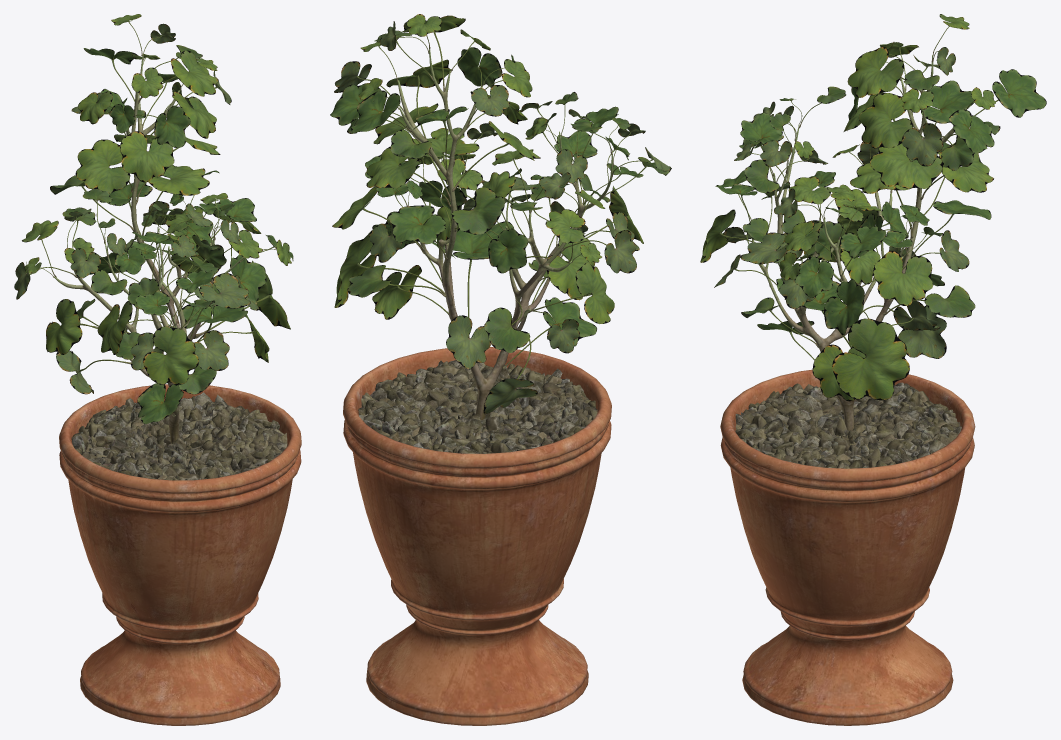
Rendered from potted_plant_01_1k.gltf.
The picture shows the model from 3 angles, left to right: view 1: azimuth 30°, elevation 25°; view 2: azimuth 150°, elevation 25°; view 3: azimuth 270°, elevation 25°; orthographic projection. The views are drawn at different scales.
Visible parts, largest first — view 1: potted_plant_01_pot, potted_plant_01_leaves, potted_plant_01_pebbles, potted_plant_01_stem; view 2: potted_plant_01_pot, potted_plant_01_leaves, potted_plant_01_pebbles, potted_plant_01_stem; view 3: potted_plant_01_pot, potted_plant_01_leaves, potted_plant_01_pebbles, potted_plant_01_stem.
Part boxes in pixels (bbox=[...]): potted_plant_01_pot: bbox=[59, 384, 301, 725]; potted_plant_01_leaves: bbox=[14, 14, 293, 423]; potted_plant_01_pebbles: bbox=[71, 392, 287, 480]; potted_plant_01_stem: bbox=[53, 54, 244, 443]; potted_plant_01_pot: bbox=[343, 347, 611, 725]; potted_plant_01_leaves: bbox=[330, 14, 671, 414]; potted_plant_01_pebbles: bbox=[358, 360, 597, 453]; potted_plant_01_stem: bbox=[397, 49, 612, 420]; potted_plant_01_pot: bbox=[720, 369, 975, 725]; potted_plant_01_leaves: bbox=[700, 14, 1046, 401]; potted_plant_01_pebbles: bbox=[735, 382, 961, 468]; potted_plant_01_stem: bbox=[751, 55, 966, 431].
Size of the model in its own units: 0.5874 by 1.34 by 0.6336.
Materials: 2 (2 with a texture image).
